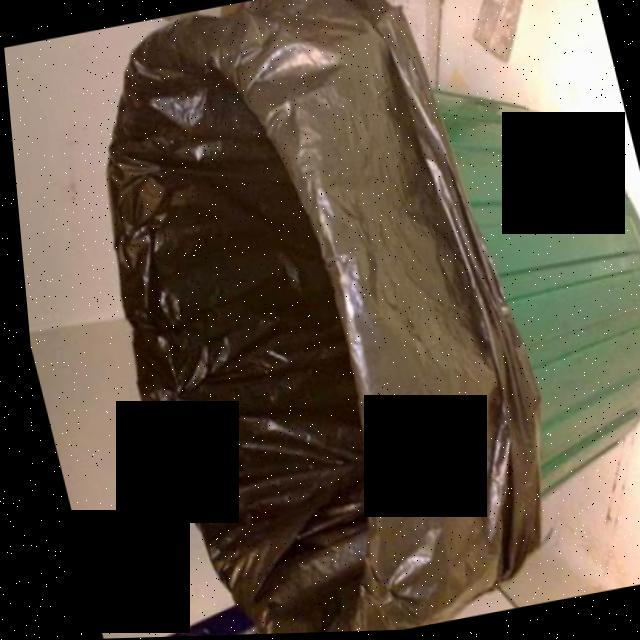bin: (26, 0, 640, 639)
